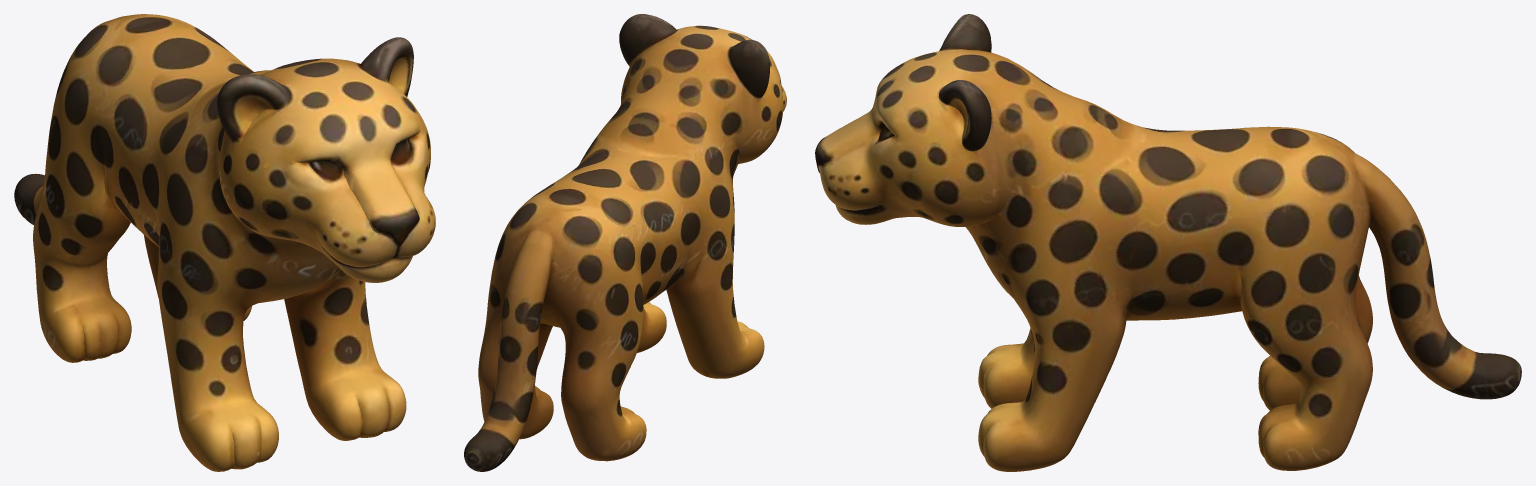
Rendered from cheetah_pbr.glb.
3 views of the same model, side by side, from view 1: azimuth 30°, elevation 25°; view 2: azimuth 150°, elevation 25°; view 3: azimuth 270°, elevation 25° (orthographic). The views are drawn at different scales.
Parts seen in each view (by area): view 1: model; view 2: model; view 3: model.
Part boxes in pixels (<box>): model: <box>14,14,435,471</box>; model: <box>464,14,786,471</box>; model: <box>815,14,1521,471</box>.
Bounding box in the file's own units: 0.571 × 1.1 × 1.83.
Materials: 1 (1 with a texture image).
